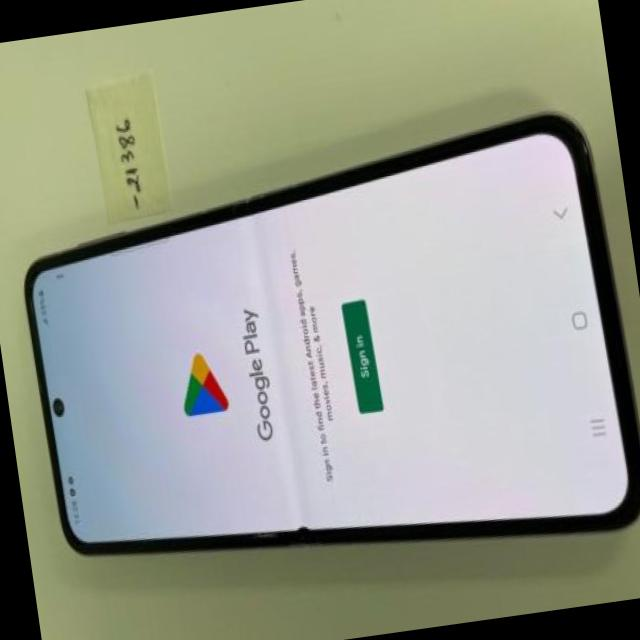dead pixel: (280, 494, 320, 553)
